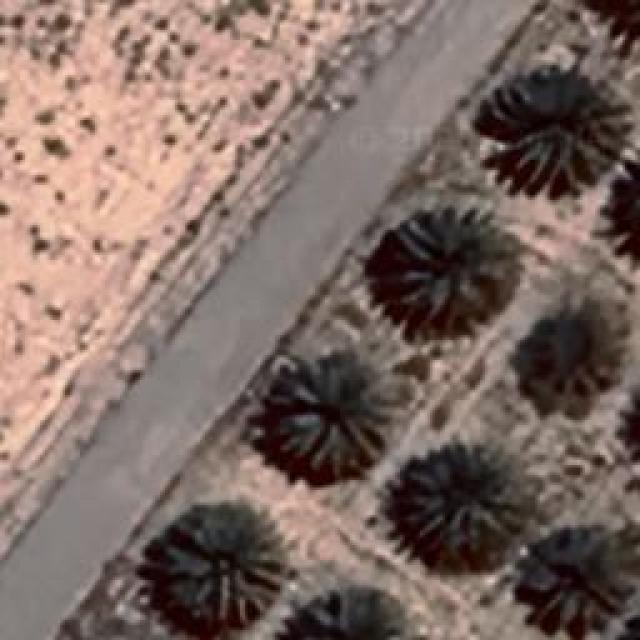PalmTree: (90, 80, 579, 362), (56, 23, 612, 80), (392, 205, 518, 330), (490, 82, 628, 196), (278, 358, 410, 472), (160, 514, 285, 628), (400, 442, 525, 540), (522, 525, 636, 625), (300, 587, 410, 635), (612, 144, 640, 266), (622, 373, 640, 472), (624, 154, 640, 265), (629, 164, 640, 264)
